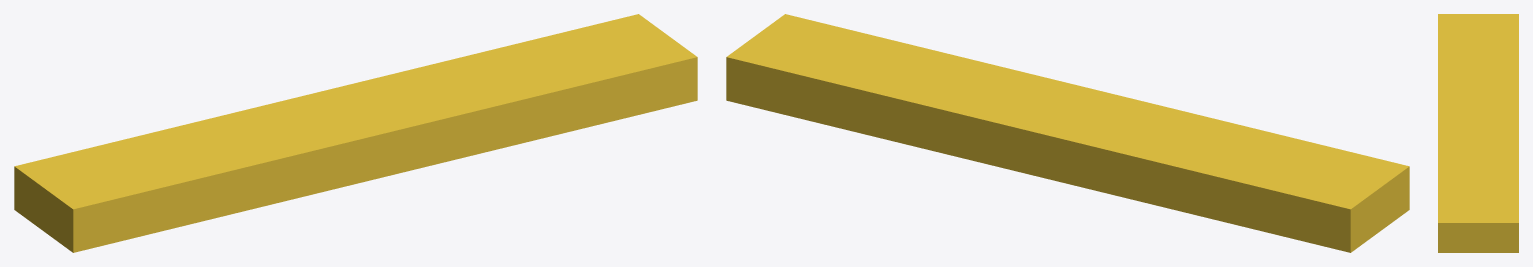
File: Floor_A_LineConnect_A.FBX
3 renders of one model, left to right at view 1: azimuth 30°, elevation 25°; view 2: azimuth 150°, elevation 25°; view 3: azimuth 270°, elevation 25°, orthographic. The views are drawn at different scales.
Parts seen in each view (by area): view 1: Floor_A_LineConnect_A; view 2: Floor_A_LineConnect_A; view 3: Floor_A_LineConnect_A.
Boxes of the visible parts, x1,y1,x2,y2 form: Floor_A_LineConnect_A: (14, 14, 697, 252); Floor_A_LineConnect_A: (726, 14, 1409, 252); Floor_A_LineConnect_A: (1438, 14, 1518, 252).
Size of the model in its own units: 300 by 20 by 48.99.
